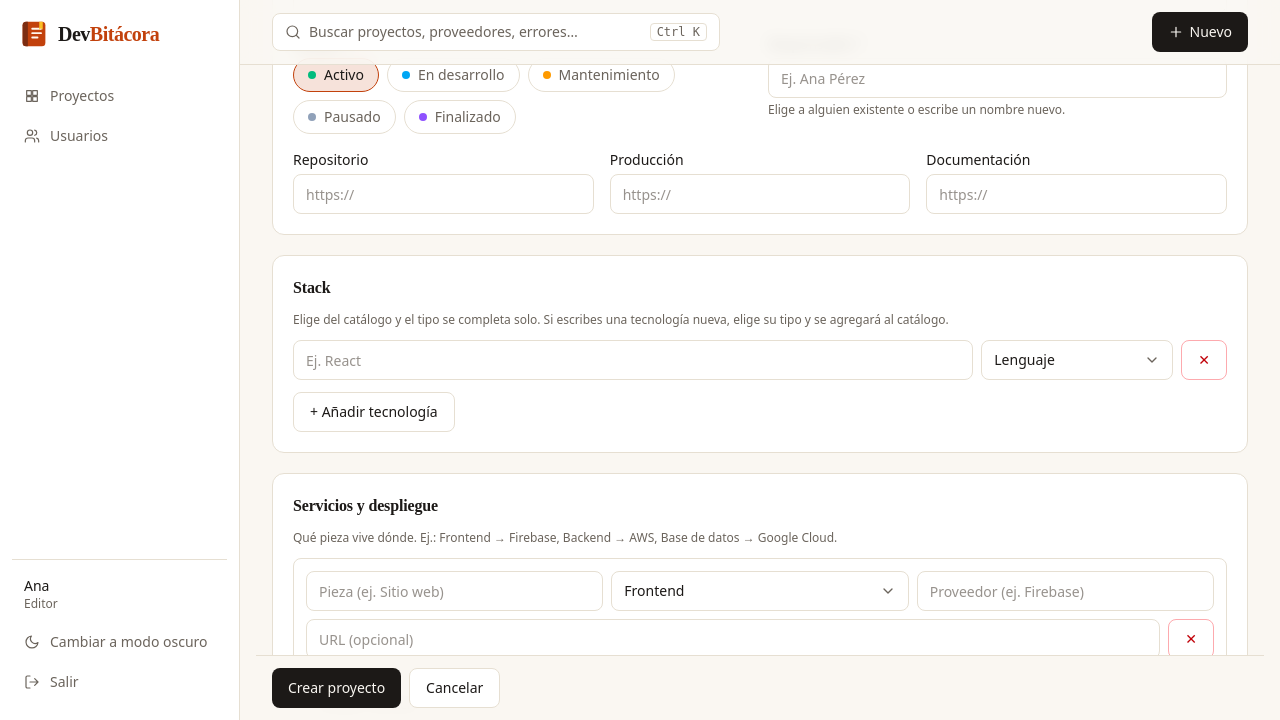
it: clasificación de tecnologías › al elegir una tecnología conocida su tipo se completa solo y queda bloqueado
(page scrolled)
In the dropdown named "Tecnología": (633, 360) [293, 340, 973, 380], type "Supabase"
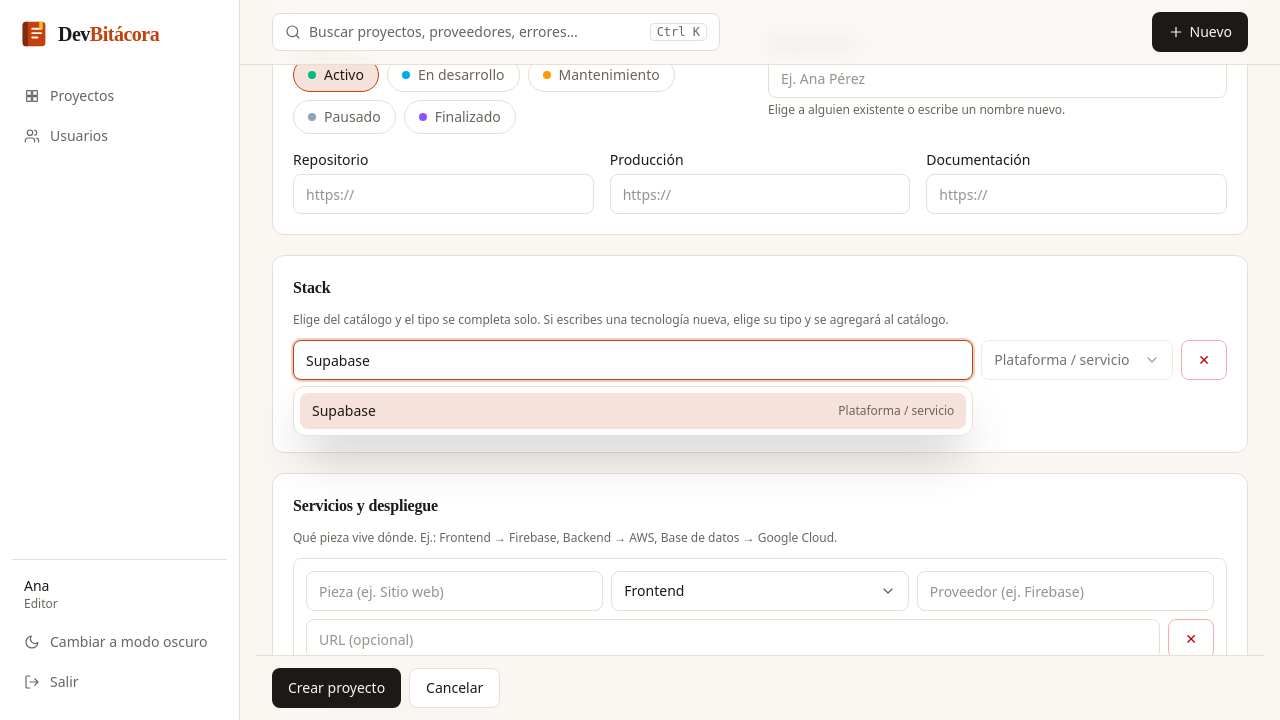
Result: the dropdown named "Tipo (definido por el catálogo)" reads "Plataforma / servicio" at [981, 340, 1173, 380]
Result: the dropdown named "Tipo (definido por el catálogo)" is disabled at [981, 340, 1173, 380]
Replace the text in the dropdown named "Tecnología" with "React": (633, 360) [293, 340, 973, 380]
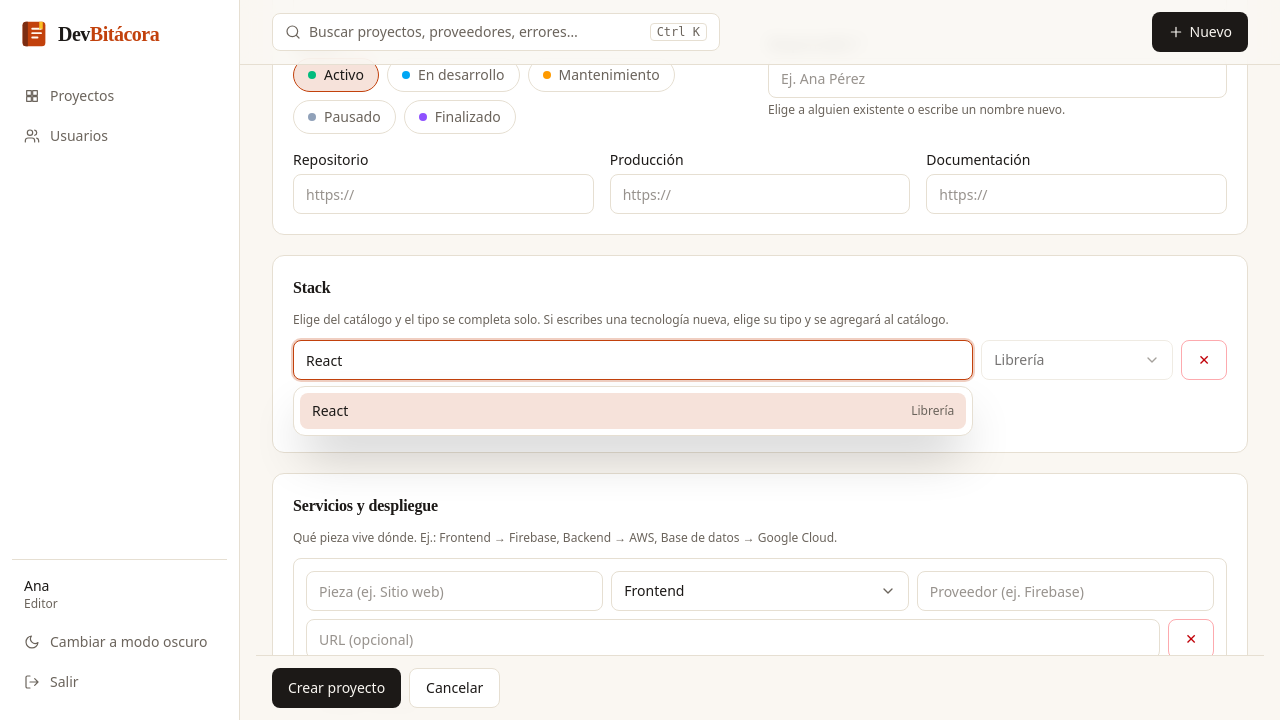
Result: the dropdown named "Tipo (definido por el catálogo)" reads "Librería" at [981, 340, 1173, 380]
